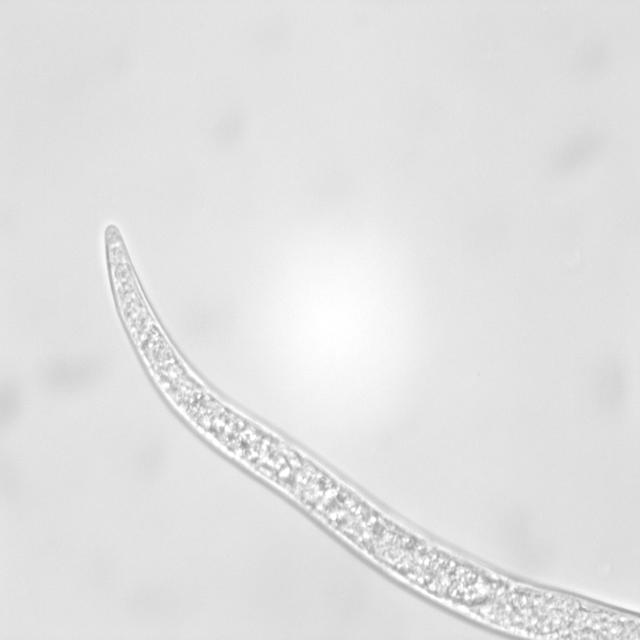Pratylenchus: (94, 220, 640, 640)
